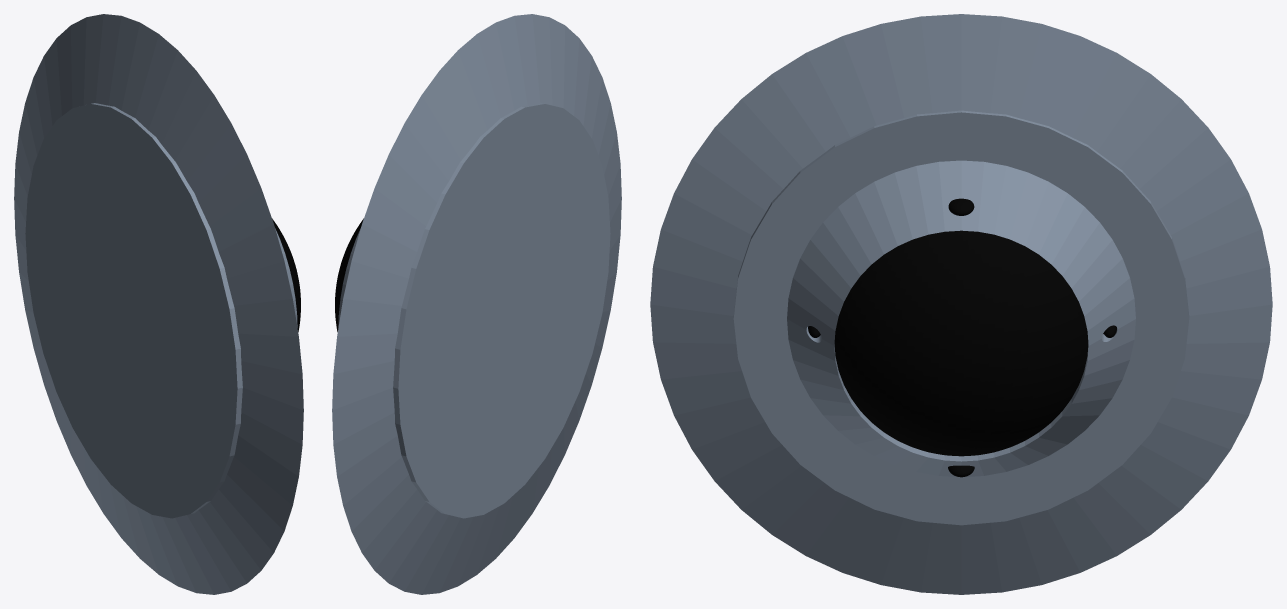
Rendered from cameraER.fbx.
The picture shows the model from 3 angles, left to right: view 1: azimuth 30°, elevation 25°; view 2: azimuth 150°, elevation 25°; view 3: azimuth 270°, elevation 25°; orthographic projection. The views are drawn at different scales.
Visible parts, largest first — view 1: Cylinder, Torus, Sphere; view 2: Cylinder, Torus, Sphere; view 3: Torus, Cylinder, Sphere, Torus.001.
Boxes of the visible parts, box(x1,y1,x2,y2) form: Cylinder: box(25, 103, 242, 518); Torus: box(14, 14, 303, 594); Sphere: box(272, 218, 300, 331); Cylinder: box(393, 103, 610, 518); Torus: box(332, 14, 621, 594); Sphere: box(335, 218, 363, 331); Torus: box(650, 14, 1272, 594); Cylinder: box(733, 110, 1189, 525); Sphere: box(834, 230, 1103, 456); Torus.001: box(787, 160, 1135, 477).
Size of the model in its own units: 95.61 by 329 by 320.
